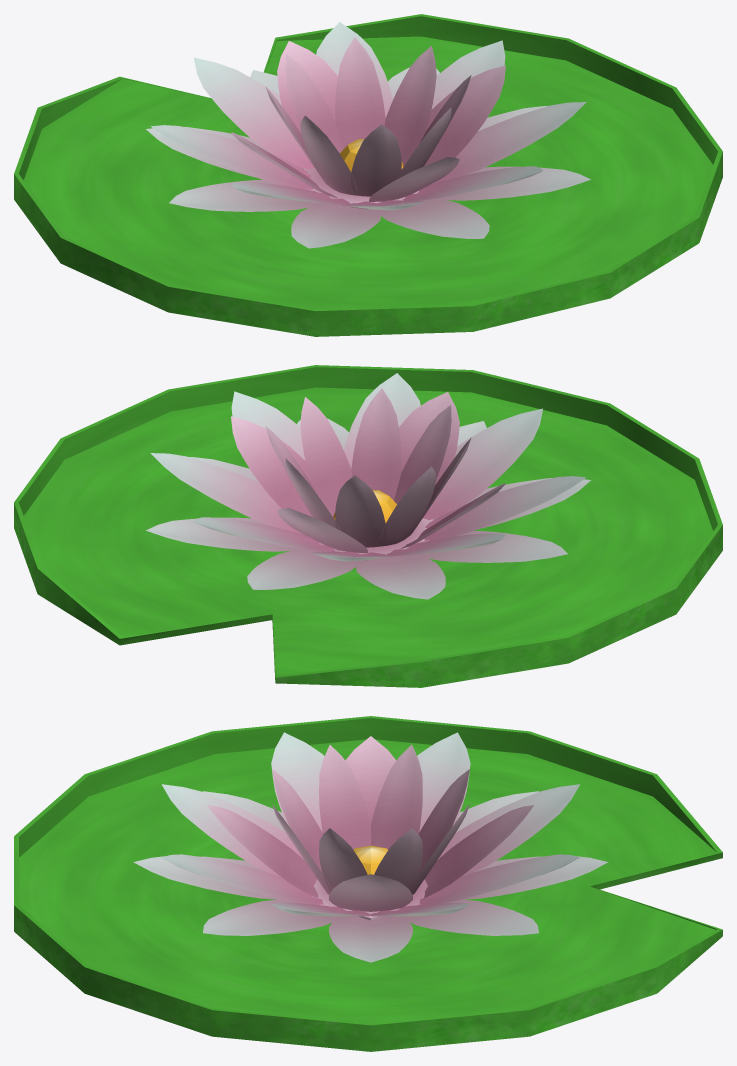
The model's file is lilypad.fbx.
The picture shows the model from 3 angles, top to bottom: view 1: azimuth 30°, elevation 25°; view 2: azimuth 150°, elevation 25°; view 3: azimuth 270°, elevation 25°; orthographic projection. The views are drawn at different scales.
Parts seen in each view (by area): view 1: lilypad, petal42, petal39, petal53, petal52, petal35, petal45, petal28, petal29, petal49, petal, petal30 (+15 smaller); view 2: lilypad, petal37, petal40, petal50, petal51, petal36, petal45, petal34, petal33, petal, petal54, petal32 (+15 smaller); view 3: lilypad, petal47, petal48, petal42, petal37, petal44, petal46, petal31, petal32, petal30, petal38, petal41 (+18 smaller).
Part boxes in pixels (bbox=[...]): lilypad: bbox=[14, 14, 722, 336]; petal42: bbox=[194, 57, 314, 169]; petal39: bbox=[435, 102, 586, 182]; petal53: bbox=[335, 37, 385, 149]; petal52: bbox=[384, 46, 436, 166]; petal35: bbox=[150, 125, 313, 189]; petal45: bbox=[424, 65, 505, 166]; petal28: bbox=[291, 203, 381, 248]; petal29: bbox=[377, 198, 489, 238]; petal49: bbox=[350, 124, 401, 196]; petal: bbox=[169, 180, 322, 211]; petal30: bbox=[433, 166, 590, 200]; lilypad: bbox=[14, 365, 722, 687]; petal37: bbox=[423, 408, 542, 520]; petal40: bbox=[150, 453, 301, 533]; petal50: bbox=[351, 388, 401, 500]; petal51: bbox=[300, 397, 352, 517]; petal36: bbox=[424, 476, 586, 540]; petal45: bbox=[231, 416, 312, 517]; petal34: bbox=[355, 554, 445, 599]; petal33: bbox=[247, 549, 359, 589]; petal: bbox=[414, 531, 567, 562]; petal54: bbox=[335, 475, 386, 547]; petal32: bbox=[146, 517, 303, 551]; lilypad: bbox=[14, 716, 722, 1051]; petal47: bbox=[371, 744, 422, 849]; petal48: bbox=[319, 745, 370, 849]; petal42: bbox=[437, 784, 579, 877]; petal37: bbox=[161, 784, 303, 877]; petal44: bbox=[207, 805, 318, 897]; petal46: bbox=[424, 805, 534, 897]; petal31: bbox=[329, 916, 412, 962]; petal32: bbox=[400, 899, 538, 935]; petal30: bbox=[203, 899, 341, 935]; petal38: bbox=[161, 854, 323, 904]; petal41: bbox=[418, 854, 579, 904].
Size of the model in its own units: 12.3 by 2.07 by 11.91.
Materials: 7 (7 with a texture image).
